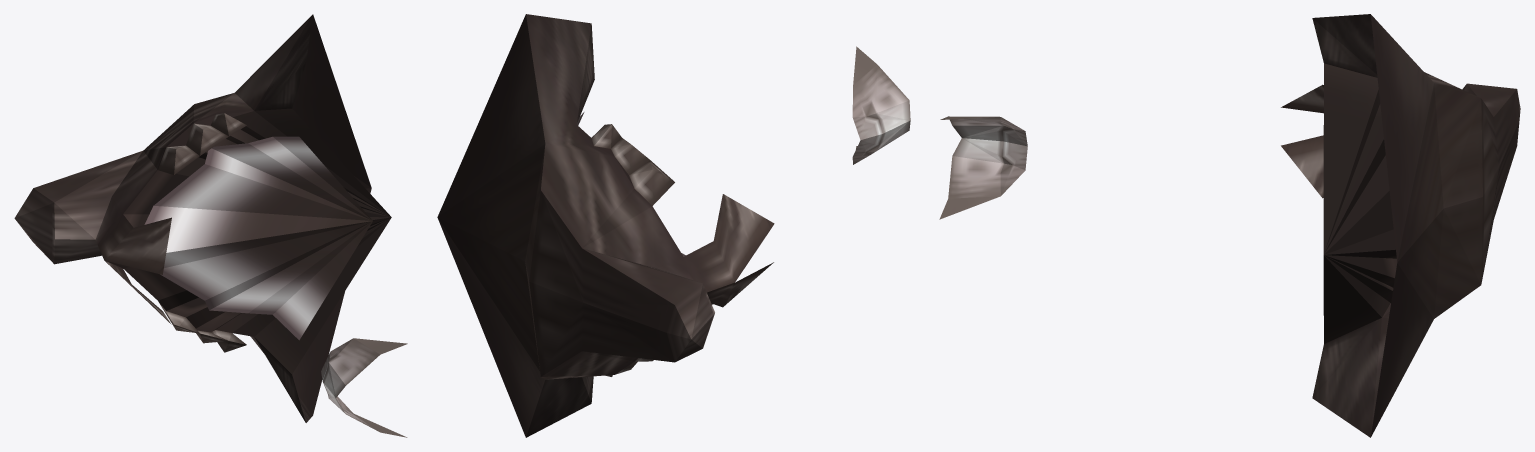
3 renders of one model, left to right at view 1: azimuth 30°, elevation 25°; view 2: azimuth 150°, elevation 25°; view 3: azimuth 270°, elevation 25°, orthographic. The views are drawn at different scales.
Parts seen in each view (by area): view 1: B_0116_3a_0; view 2: B_0116_3a_0; view 3: B_0116_3a_0.
Part boxes in pixels (x1,y1,x2,y2): B_0116_3a_0: (14,14,407,437); B_0116_3a_0: (437,14,910,437); B_0116_3a_0: (939,14,1520,437).
Size of the model in its own units: 3.13 by 4.02 by 4.99.
Materials: 1 (1 with a texture image).
